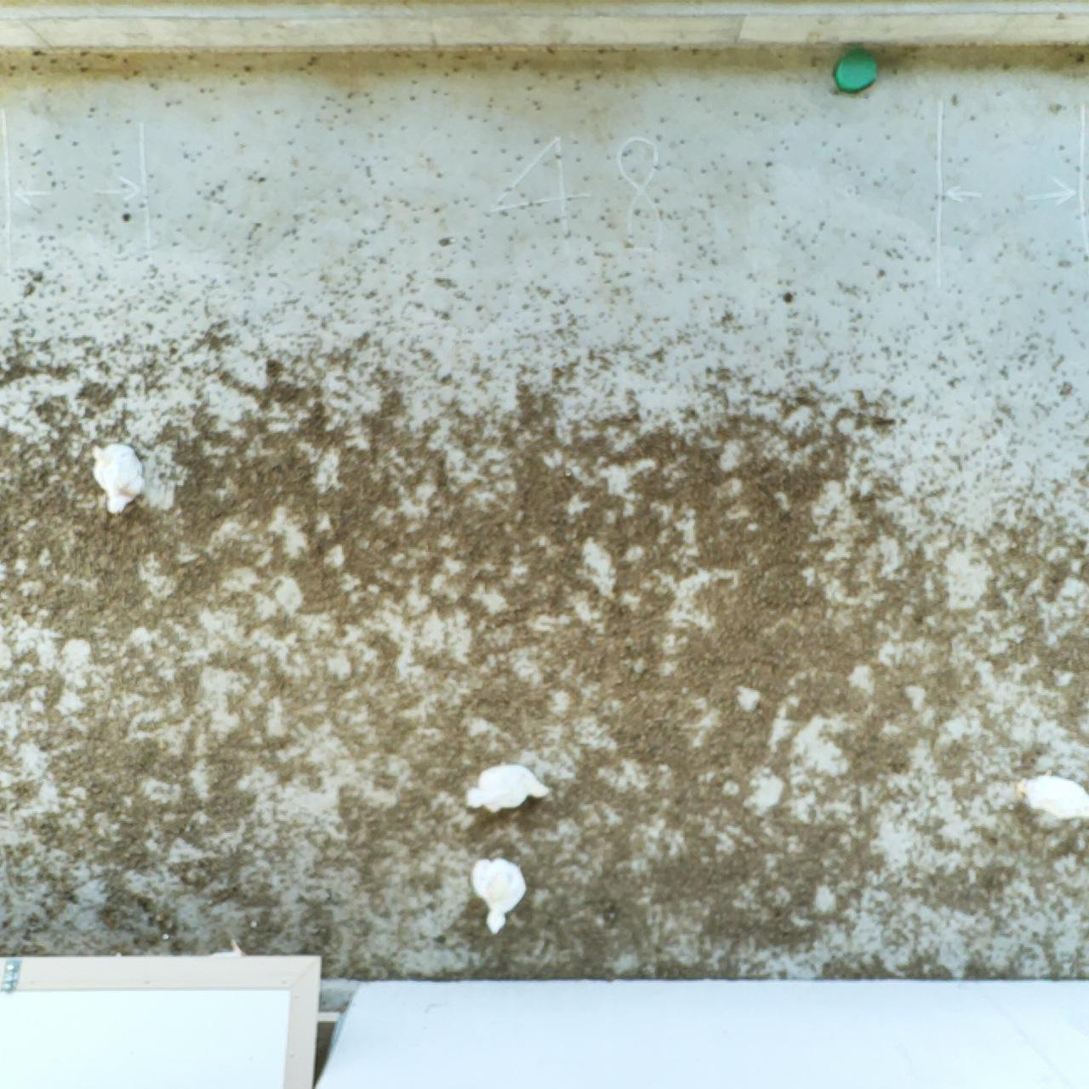chicken: (462, 760, 554, 820), (86, 435, 148, 519), (469, 853, 529, 937), (1012, 766, 1089, 820)
